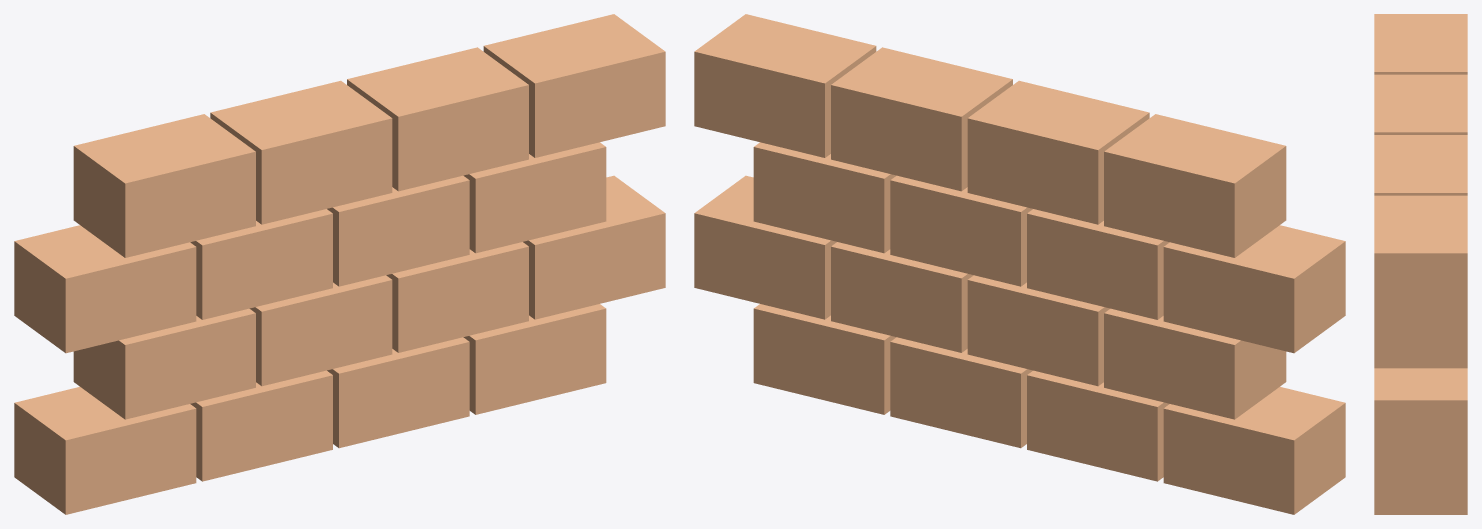
3 views of the same model, side by side, from view 1: azimuth 30°, elevation 25°; view 2: azimuth 150°, elevation 25°; view 3: azimuth 270°, elevation 25° (orthographic). The views are drawn at different scales.
Parts seen in each view (by area): view 1: Brick.012, Brick.008, Brick, Brick.015, Brick.013, Brick.014, Brick.004, Brick.007, Brick.003, Brick.011, Brick.005, Brick.010 (+4 smaller); view 2: Brick.012, Brick.008, Brick, Brick.015, Brick.013, Brick.014, Brick.004, Brick.007, Brick.003, Brick.011, Brick.005, Brick.010 (+4 smaller); view 3: Brick.015, Brick.007, Brick.012, Brick.013, Brick.014, Brick.011, Brick.003.
Boxes of the visible parts, left/top/right/bottom form: Brick.012: left=73, top=114, right=255, bottom=257; Brick.008: left=14, top=225, right=196, bottom=353; Brick: left=14, top=387, right=196, bottom=514; Brick.015: left=483, top=14, right=665, bottom=157; Brick.013: left=210, top=80, right=392, bottom=224; Brick.014: left=347, top=47, right=528, bottom=191; Brick.004: left=73, top=308, right=255, bottom=419; Brick.007: left=523, top=175, right=665, bottom=319; Brick.003: left=463, top=304, right=606, bottom=414; Brick.011: left=463, top=142, right=606, bottom=253; Brick.005: left=249, top=275, right=392, bottom=386; Brick.010: left=327, top=175, right=469, bottom=286; Brick.012: left=1104, top=114, right=1286, bottom=257; Brick.008: left=1163, top=225, right=1345, bottom=353; Brick: left=1163, top=387, right=1345, bottom=514; Brick.015: left=694, top=14, right=876, bottom=157; Brick.013: left=967, top=80, right=1149, bottom=224; Brick.014: left=831, top=47, right=1012, bottom=191; Brick.004: left=1104, top=308, right=1286, bottom=419; Brick.007: left=694, top=175, right=836, bottom=319; Brick.003: left=753, top=304, right=896, bottom=414; Brick.011: left=753, top=142, right=896, bottom=253; Brick.005: left=967, top=275, right=1110, bottom=386; Brick.010: left=890, top=175, right=1032, bottom=286; Brick.015: left=1374, top=195, right=1467, bottom=321; Brick.007: left=1374, top=368, right=1467, bottom=467; Brick.012: left=1374, top=14, right=1467, bottom=74; Brick.013: left=1374, top=74, right=1467, bottom=134; Brick.014: left=1374, top=135, right=1467, bottom=195; Brick.011: left=1374, top=321, right=1467, bottom=368; Brick.003: left=1374, top=468, right=1467, bottom=514.
Bounding box in the file's own units: 101 × 51 × 15.
